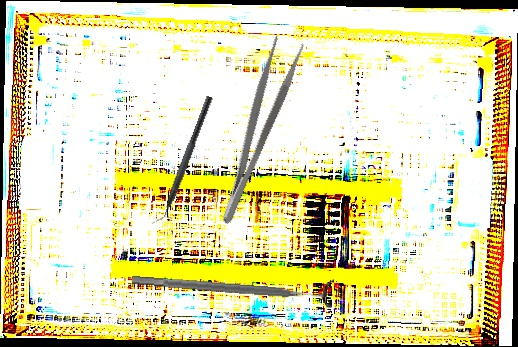Chopper: (149, 92, 214, 229)
Dressing Forceps: (202, 32, 308, 228)
Fixation Ring: (131, 264, 334, 310)
